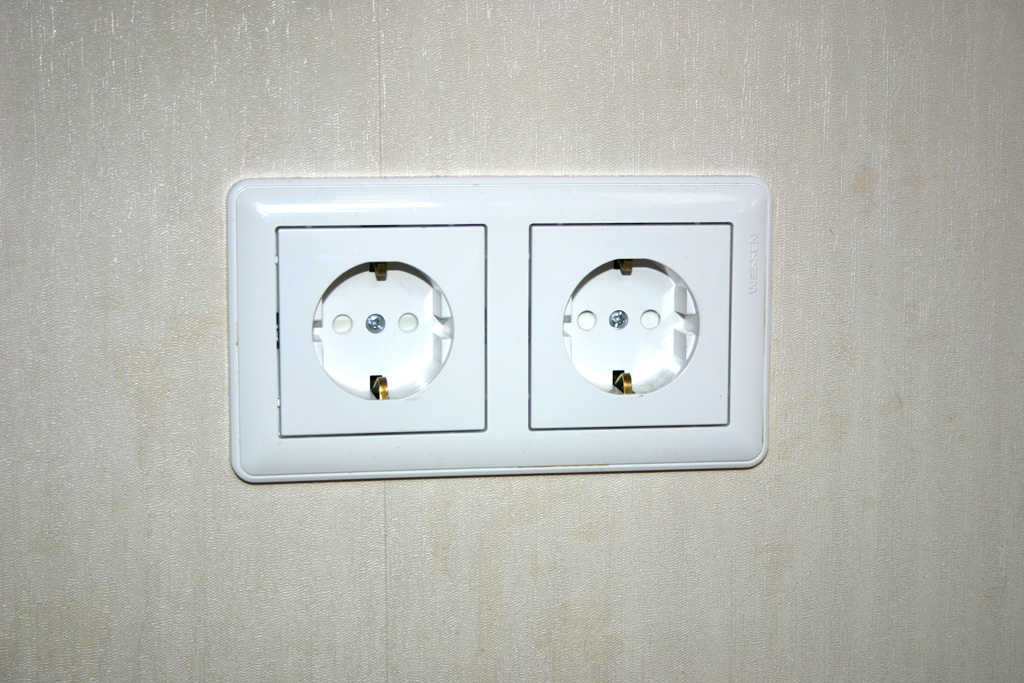raccoon: (560, 246, 704, 407), (309, 255, 458, 407)
